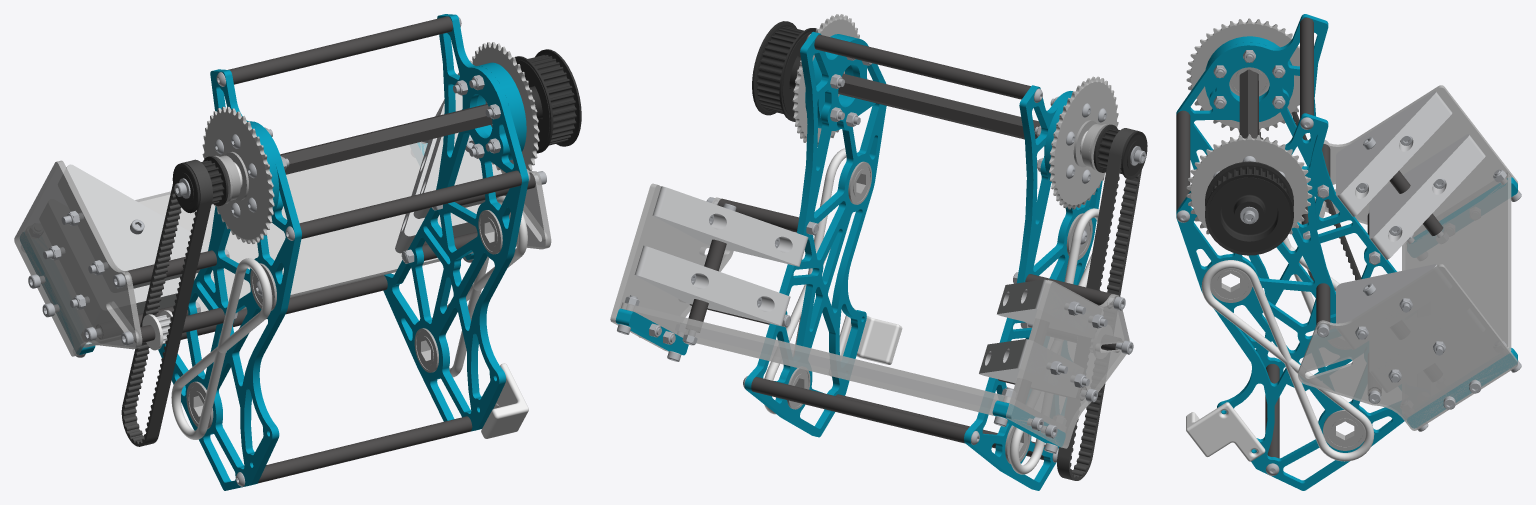
3 views of the same model, side by side, from view 1: azimuth 30°, elevation 25°; view 2: azimuth 150°, elevation 25°; view 3: azimuth 270°, elevation 25° (orthographic). The views are drawn at different scales.
Parts seen in each view (by area): view 1: Gripper, 98T HTD5 Belt, 42T 25 Chain Bearing Bore Sprocket (am-0235) (×2), 36t 15mm Wide 1/2" Hex Bore Double Flange 5mm HTD Aluminum P, 1/2" Hex x 1-1/8" OD (Flanged) (×4), Part 41, 18t 15mm Wide 1/2" Hex Bore Double Flange 5mm HTD Aluminum P; view 2: Gripper, 42T 25 Chain Bearing Bore Sprocket (am-0235) (×2), 98T HTD5 Belt, 36t 15mm Wide 1/2" Hex Bore Double Flange 5mm HTD Aluminum P, Part 41, 18t 15mm Wide 1/2" Hex Bore Double Flange 5mm HTD Aluminum P, 1/2" Hex x 1-1/8" OD (Flanged) (×2); view 3: Gripper, 42T 25 Chain Bearing Bore Sprocket (am-0235) (×2), 36t 15mm Wide 1/2" Hex Bore Double Flange 5mm HTD Aluminum P, 1/2" Hex x 1-1/8" OD (Flanged) (×3), Part 41, 98T HTD5 Belt.
Boxes of the visible parts, x1,y1,x2,y2 form: Gripper: [14, 14, 551, 490]; 98T HTD5 Belt: [121, 159, 212, 446]; 42T 25 Chain Bearing Bore Sprocket (am-0235) (×2): [202, 42, 539, 243]; 36t 15mm Wide 1/2" Hex Bore Double Flange 5mm HTD Aluminum P: [515, 49, 581, 153]; 1/2" Hex x 1-1/8" OD (Flanged) (×4): [186, 155, 502, 429]; Part 41: [481, 363, 528, 438]; 18t 15mm Wide 1/2" Hex Bore Double Flange 5mm HTD Aluminum P: [172, 156, 228, 213]; Gripper: [610, 31, 1136, 490]; 42T 25 Chain Bearing Bore Sprocket (am-0235) (×2): [792, 14, 1118, 209]; 98T HTD5 Belt: [1057, 128, 1141, 480]; 36t 15mm Wide 1/2" Hex Bore Double Flange 5mm HTD Aluminum P: [752, 21, 816, 121]; Part 41: [830, 309, 902, 376]; 18t 15mm Wide 1/2" Hex Bore Double Flange 5mm HTD Aluminum P: [1093, 124, 1147, 179]; 1/2" Hex x 1-1/8" OD (Flanged) (×2): [848, 124, 1108, 204]; Gripper: [1176, 14, 1517, 490]; 42T 25 Chain Bearing Bore Sprocket (am-0235) (×2): [1186, 18, 1312, 234]; 36t 15mm Wide 1/2" Hex Bore Double Flange 5mm HTD Aluminum P: [1205, 161, 1293, 255]; 1/2" Hex x 1-1/8" OD (Flanged) (×3): [1210, 67, 1365, 450]; Part 41: [1186, 402, 1265, 461]; 98T HTD5 Belt: [1259, 111, 1361, 280].
Bounding box in the file's own units: 0.3204 × 0.2904 × 0.2428.
